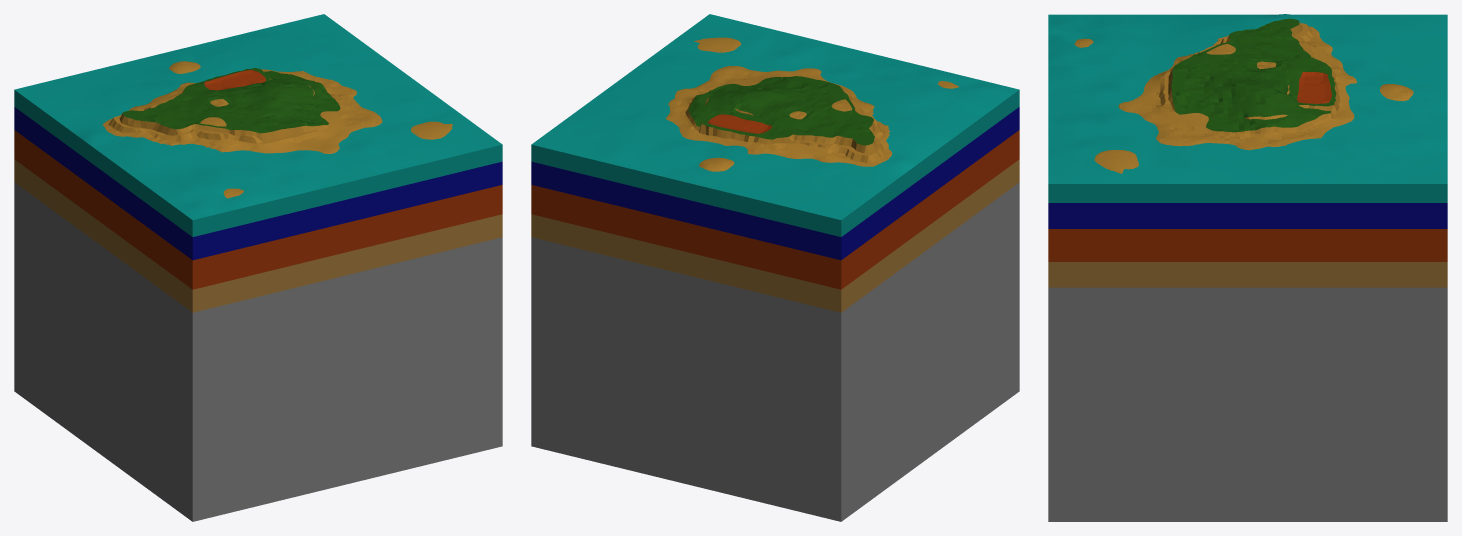
File: Island_01.fbx
The picture shows the model from 3 angles, left to right: view 1: azimuth 30°, elevation 25°; view 2: azimuth 150°, elevation 25°; view 3: azimuth 270°, elevation 25°; orthographic projection. The views are drawn at different scales.
Visible parts, largest first — view 1: Block, Sea, Island_01; view 2: Block, Sea, Island_01; view 3: Block, Sea, Island_01.
Boxes of the visible parts, x1,y1,x2,y2 form: Block: (14,90,502,521); Sea: (14,14,502,219); Island_01: (102,61,452,198); Block: (531,90,1019,521); Sea: (531,14,1019,219); Island_01: (665,37,958,171); Block: (1048,184,1447,521); Sea: (1048,14,1447,183); Island_01: (1074,18,1413,173).
Size of what is drawn, in the model's own units: 15042 by 14909 by 15001.
